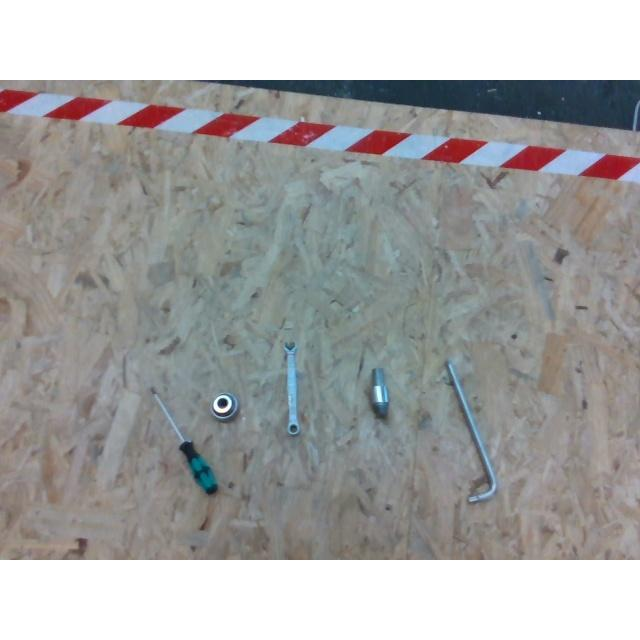AllenKey: (444, 362, 496, 502)
Axis2: (370, 367, 390, 419)
Bearing2: (210, 393, 238, 417)
Screwdriver: (152, 387, 218, 497)
Wrench: (283, 341, 299, 435)
